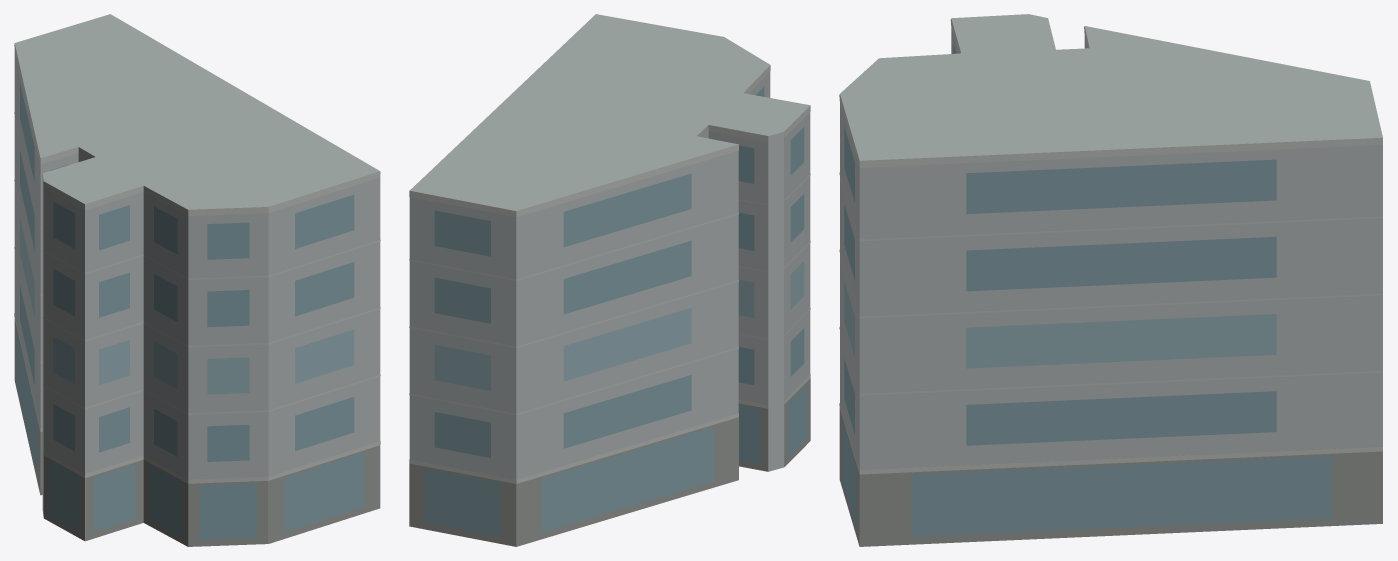
File: survey-upis-32998820.glb
The picture shows the model from 3 angles, left to right: view 1: azimuth 30°, elevation 25°; view 2: azimuth 150°, elevation 25°; view 3: azimuth 270°, elevation 25°; orthographic projection. The views are drawn at different scales.
Visible parts, largest first — view 1: survey-upis-32998820.tmp; view 2: survey-upis-32998820.tmp; view 3: survey-upis-32998820.tmp.
Boxes of the visible parts, box(x1,y1,x2,y2) form: survey-upis-32998820.tmp: box(14, 14, 380, 546); survey-upis-32998820.tmp: box(409, 14, 810, 546); survey-upis-32998820.tmp: box(839, 14, 1382, 546).
Bounding box in the file's own units: 10.63 × 13 × 16.61.
